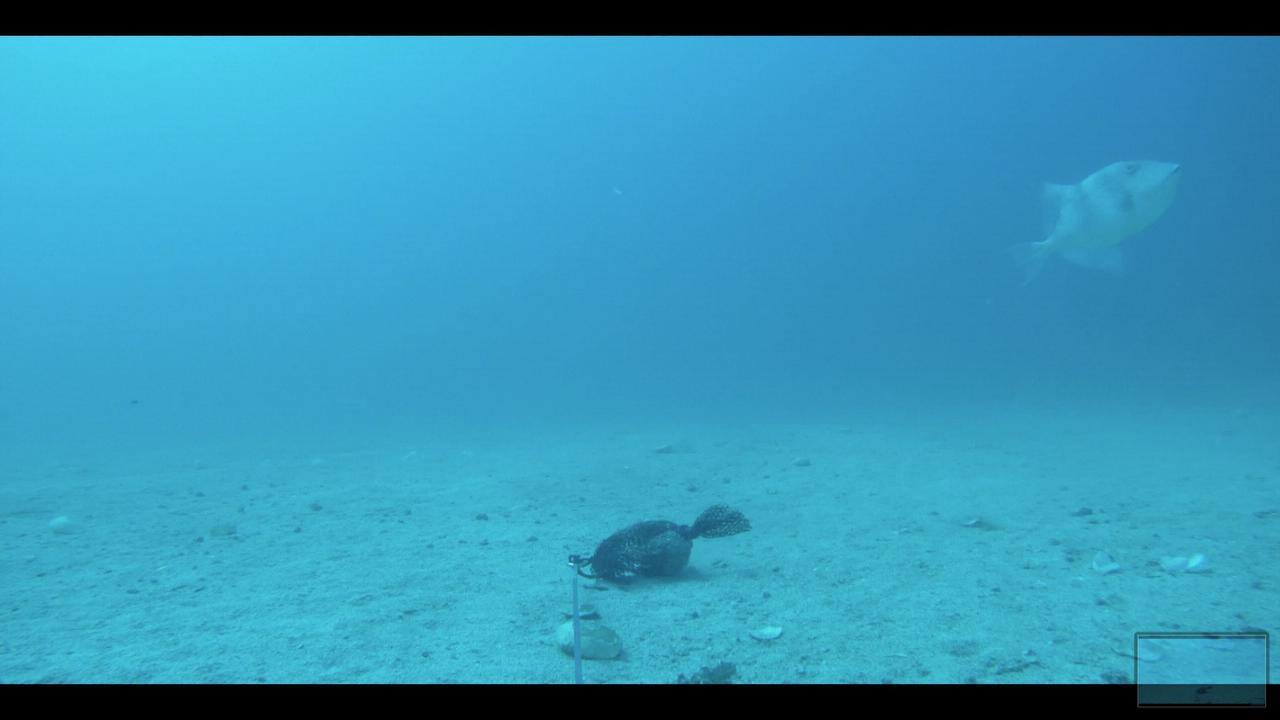balistes: (995, 155, 1186, 293)
